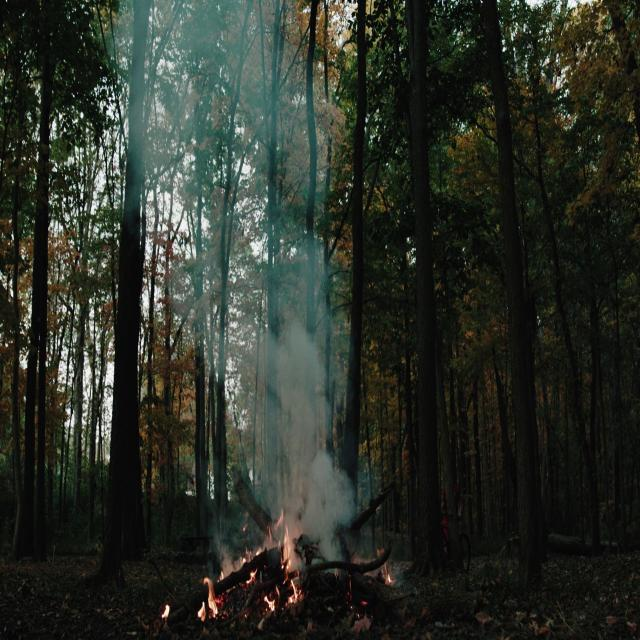Fire: (260, 502, 310, 624), (196, 565, 228, 628)
Smoke: (121, 2, 358, 550)
